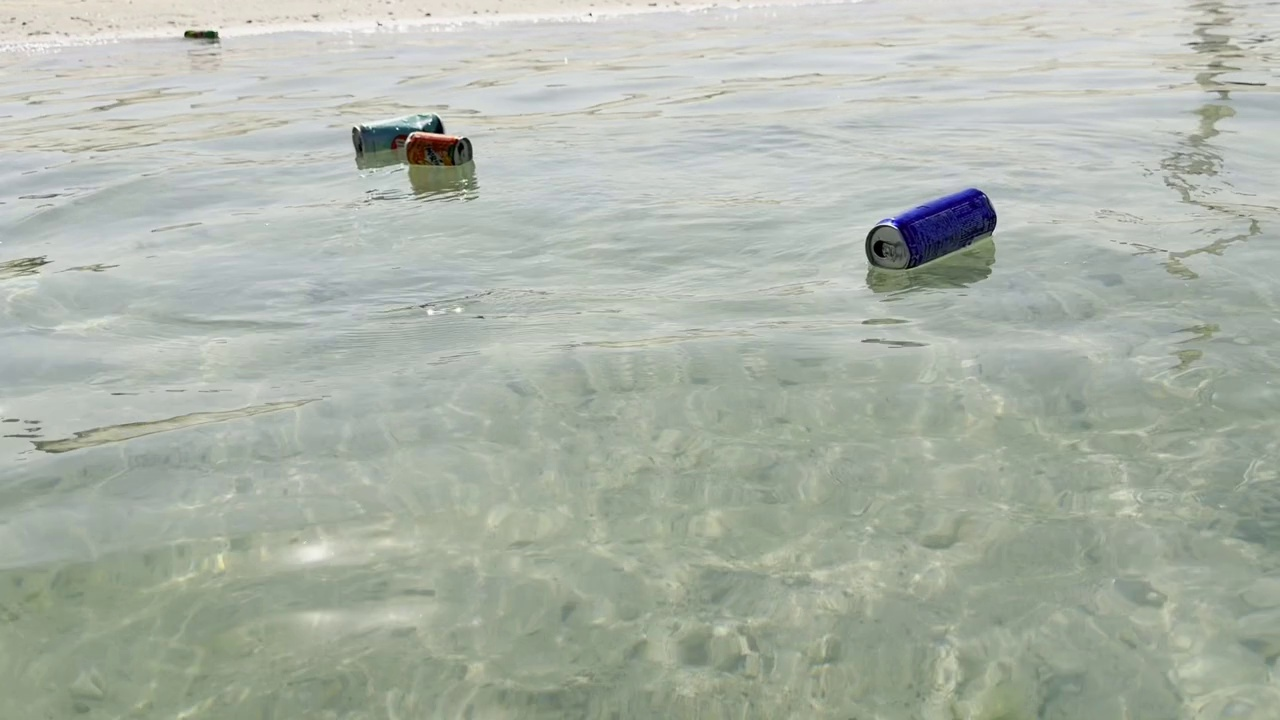debris: (861, 178, 1001, 281), (349, 111, 461, 167), (398, 122, 472, 175), (181, 23, 225, 43)
